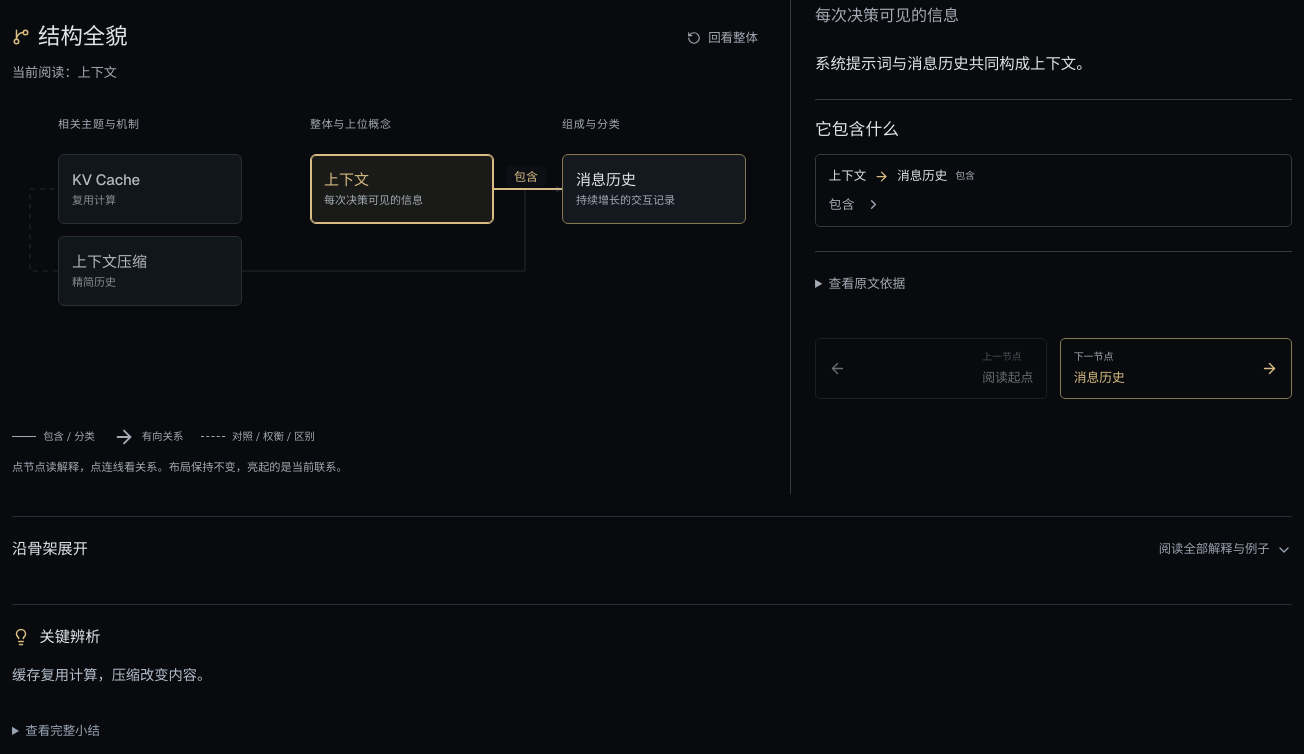
Scenario: guided structure reader › can read omitted nodes and return to an overview without claiming mastery
The width and height of the screenshot is (1304, 754).
(page scrolled)
Click the button with aria-label "下一节点：消息历史".
click(1176, 368)  # box x1=1060 y1=338 x2=1292 y2=399
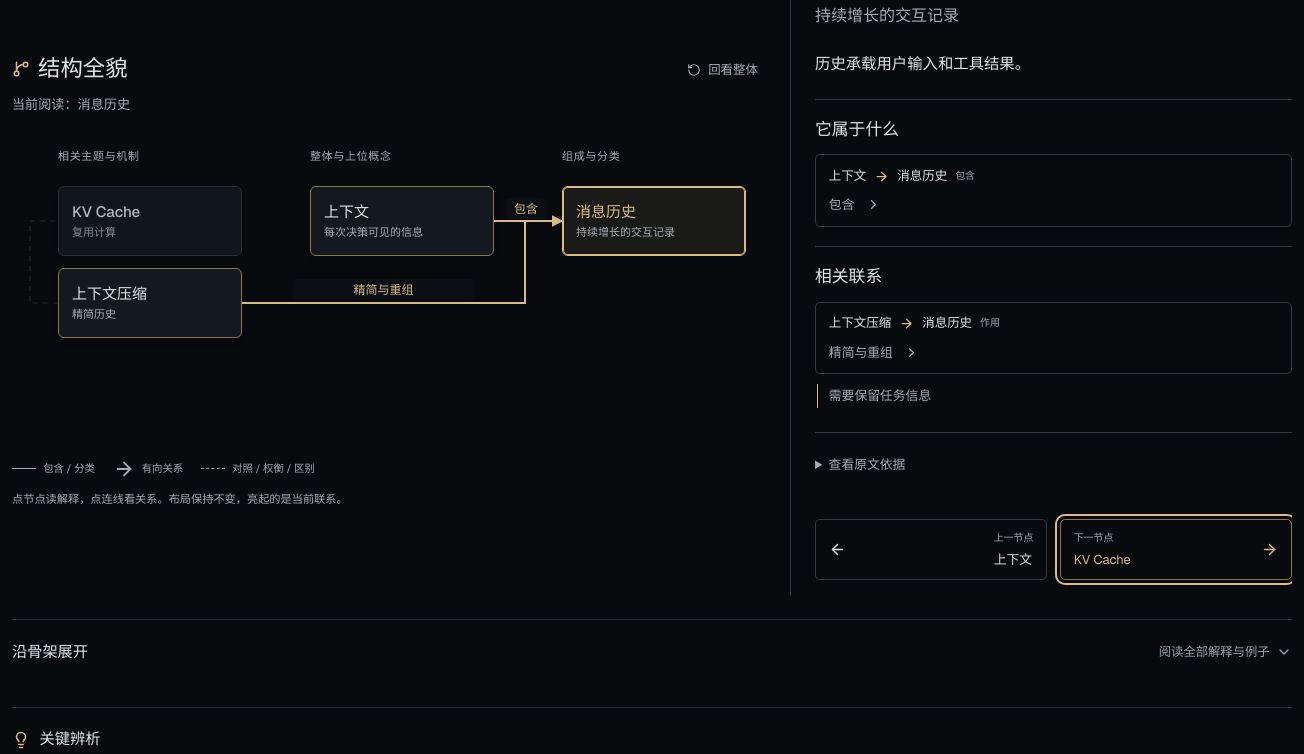
Now the element named "节点解释" shows "历史承载用户输入和工具结果。", box x1=815 y1=54 x2=1030 y2=74
Click the button "回看整体".
click(723, 70)  # box x1=679 y1=50 x2=766 y2=90
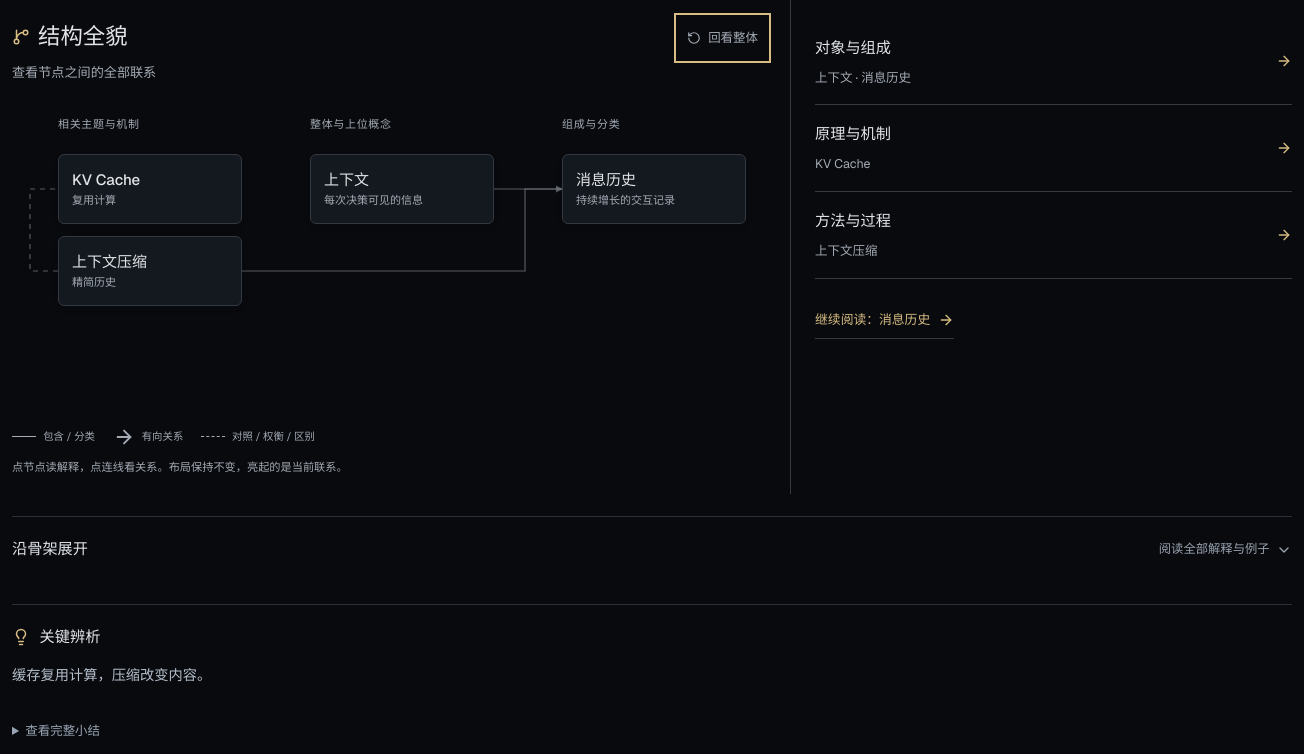
Click the button "继续阅读：消息历史".
click(885, 320)  # box x1=815 y1=301 x2=954 y2=339
(page scrolled)
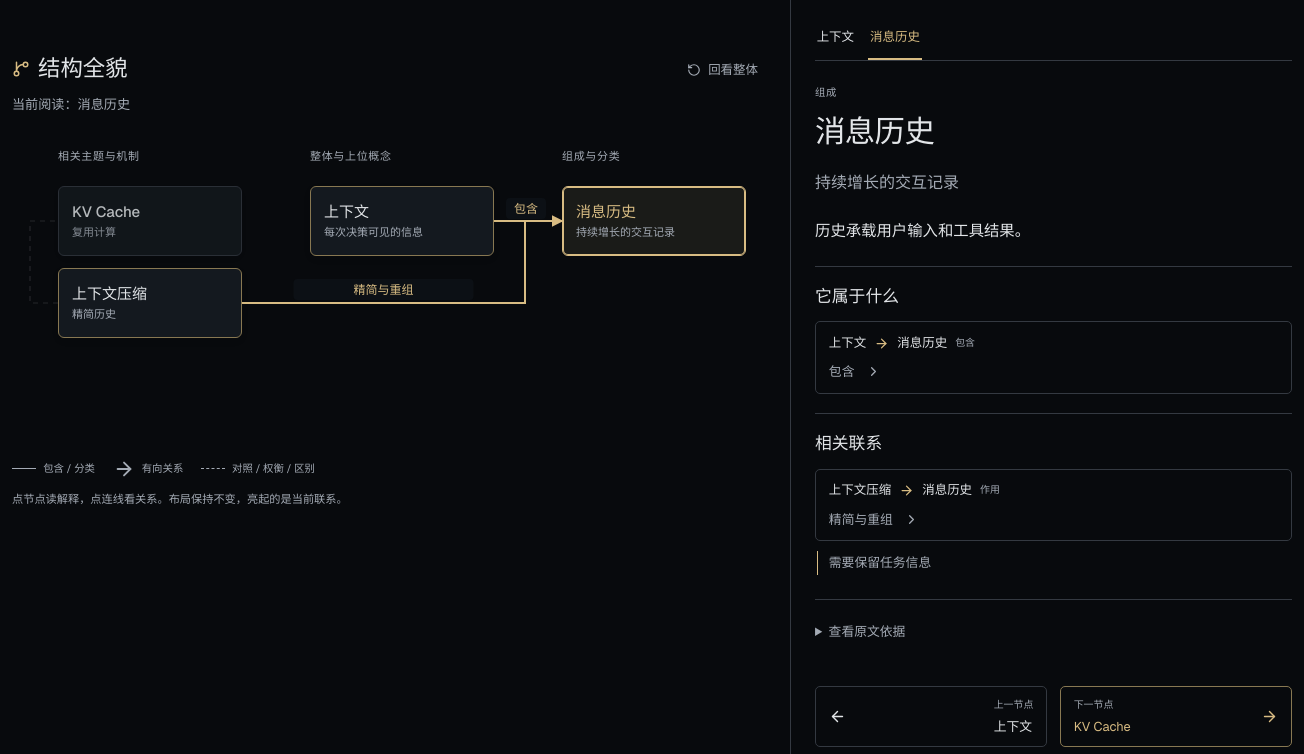
Now the element named "节点解释" shows "历史承载用户输入和工具结果。", box x1=815 y1=221 x2=1030 y2=241
